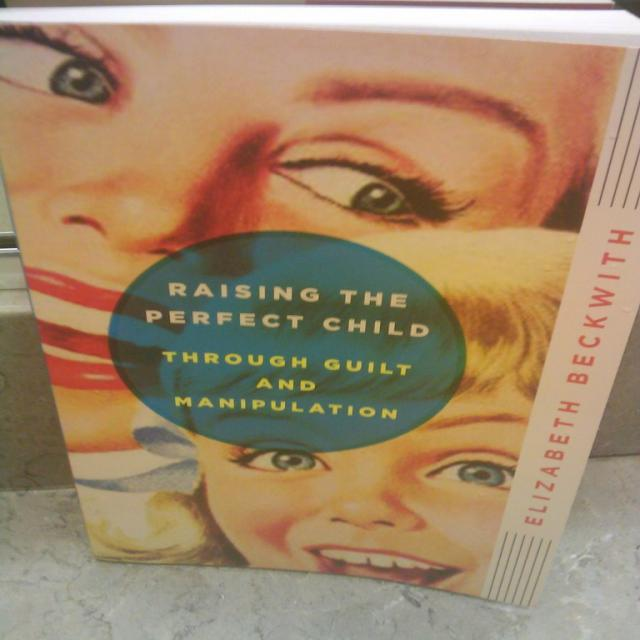book: (15, 11, 640, 620)
